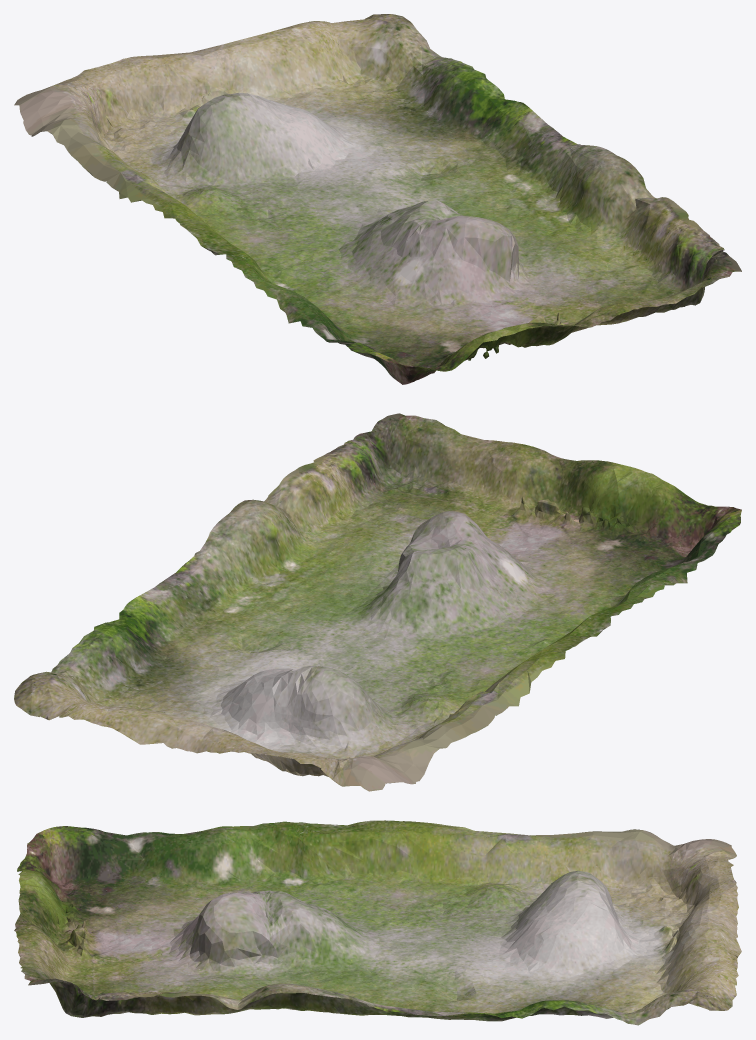
Rendered from terrain.obj.
3 renders of one model, top to bottom at view 1: azimuth 30°, elevation 25°; view 2: azimuth 150°, elevation 25°; view 3: azimuth 270°, elevation 25°, orthographic. The views are drawn at different scales.
Visible parts, largest first — view 1: field; view 2: field; view 3: field.
Part boxes in pixels (x1,y1,x2,y2): field: [14, 14, 741, 384]; field: [14, 413, 741, 791]; field: [14, 820, 741, 1025].
Size of the model in its own units: 18.56 by 3.01 by 31.35.
Materials: 1 (1 with a texture image).
